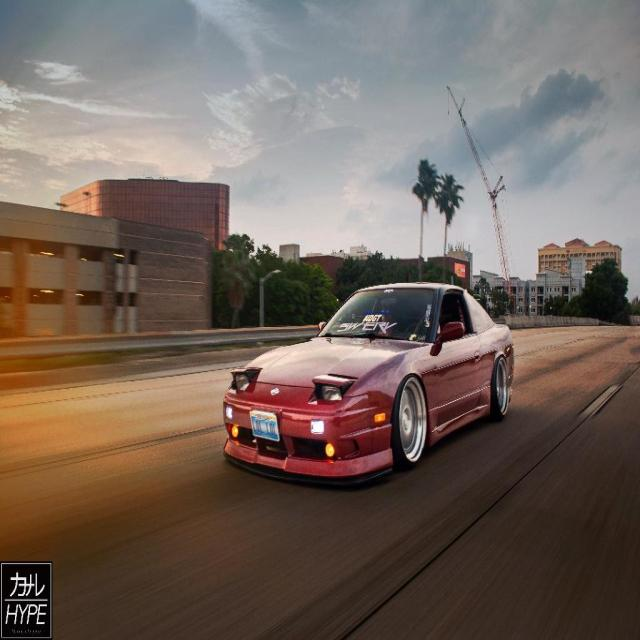car: (218, 278, 518, 484)
